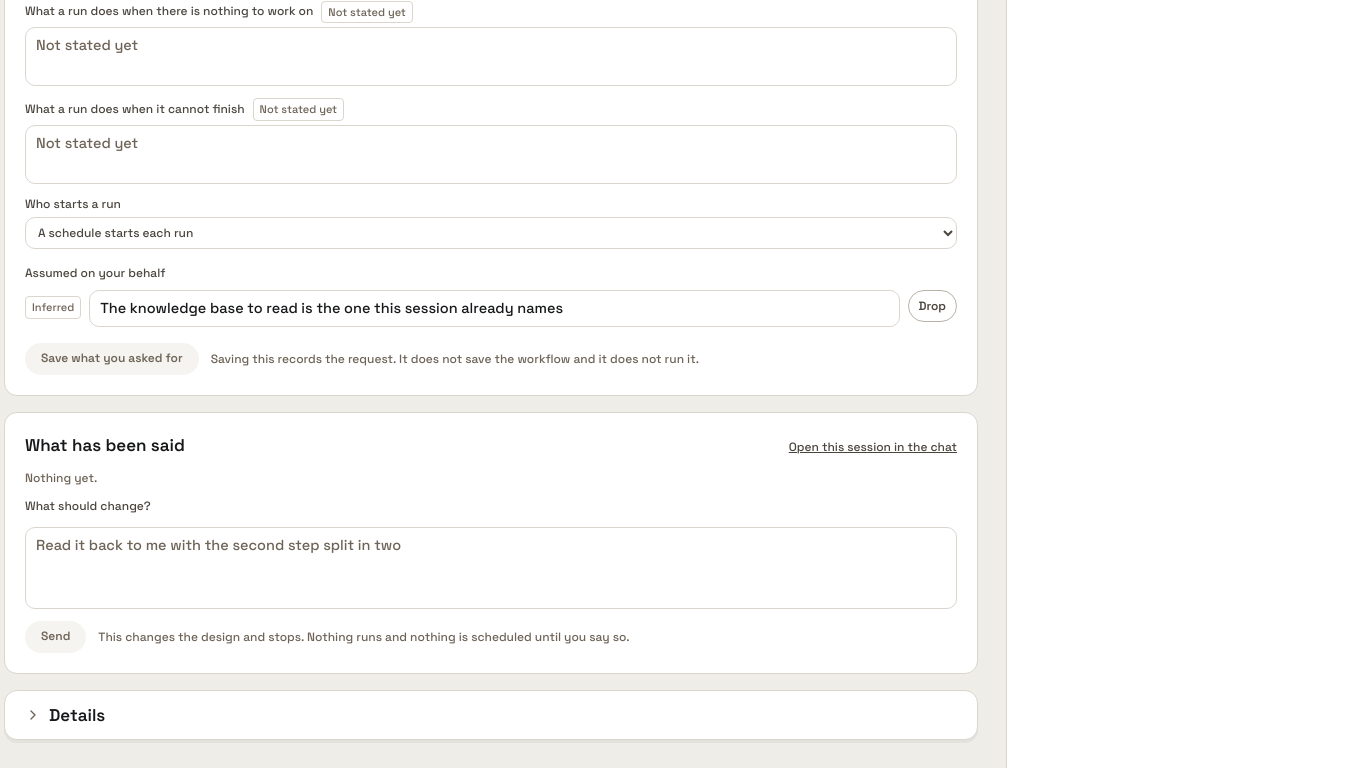
Test: designing an automation from one request › puts the YAML and the execution graph under Details, opened only when asked
(page scrolled)
Expected: the text "name: monday-sweep" is not shown
Click the button "Details".
click(65, 715)  # box left=25, top=703, right=105, bottom=727
(page scrolled)
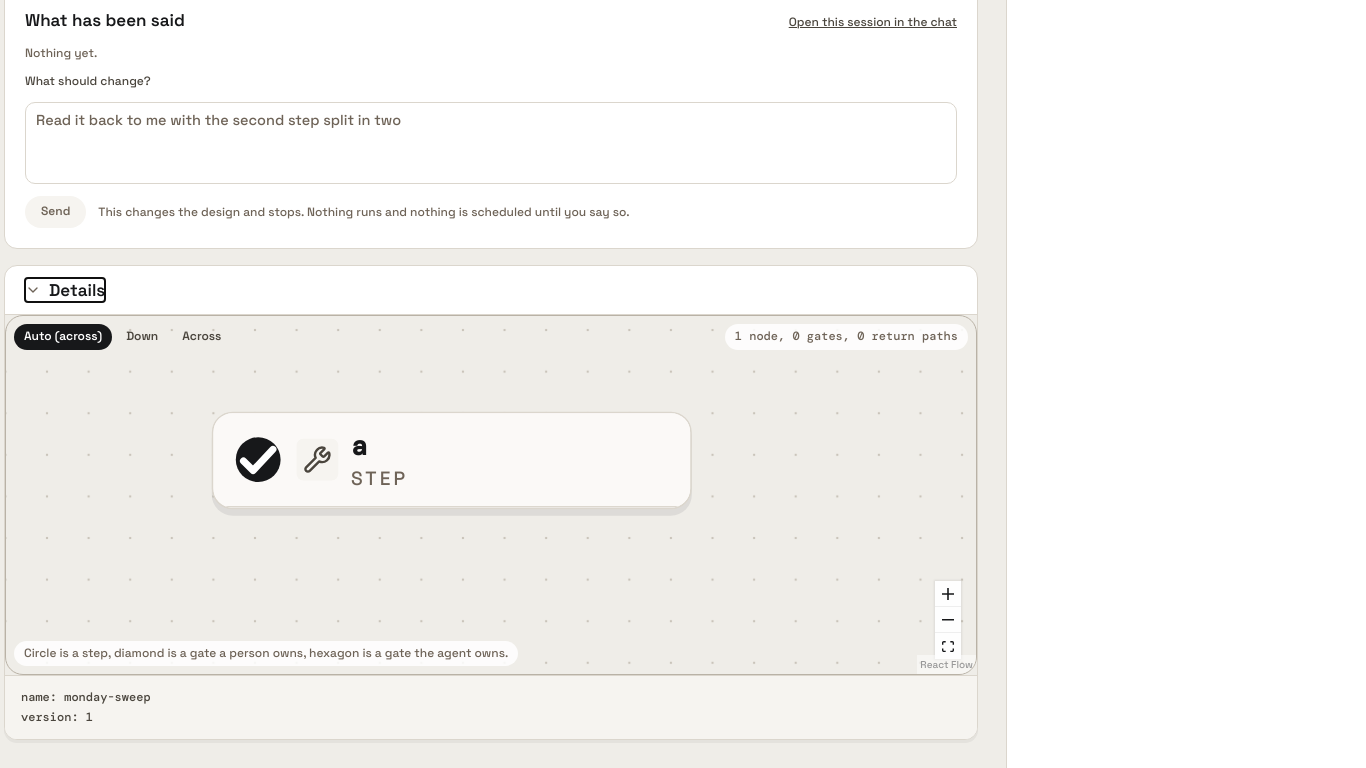
Result: the button "Details" is expanded at left=25, top=278, right=105, bottom=302
Result: the text "name: monday-sweep version: 1" is shown at left=5, top=675, right=977, bottom=739
